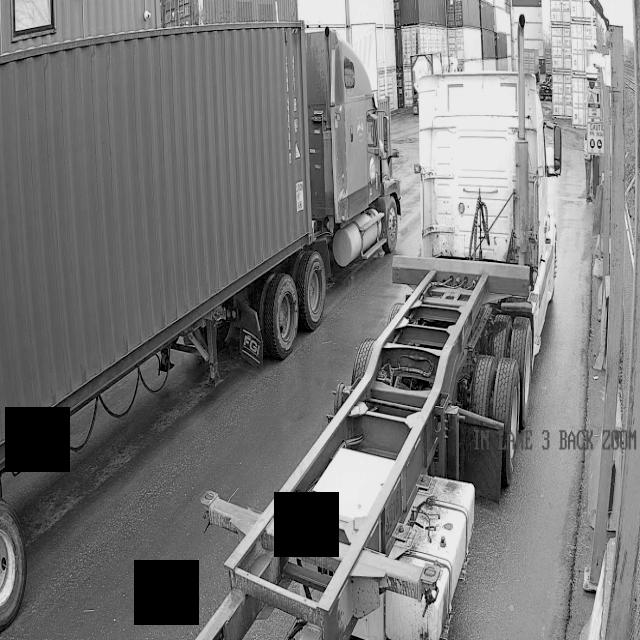truck_with_container: (0, 22, 400, 630)
truck_without_container: (199, 72, 561, 640)
